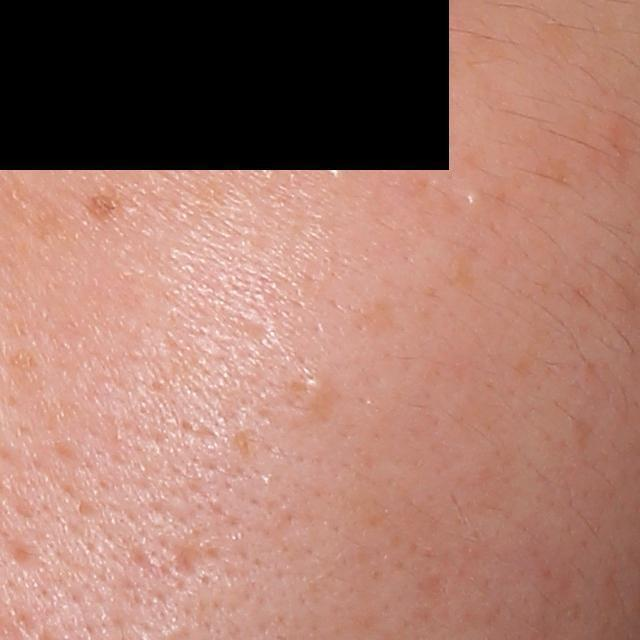atrophic_scar: (166, 541, 206, 579)
comedo: (293, 371, 328, 415)
melasma: (345, 291, 402, 345), (438, 240, 482, 290), (528, 157, 587, 194), (77, 183, 124, 226)
